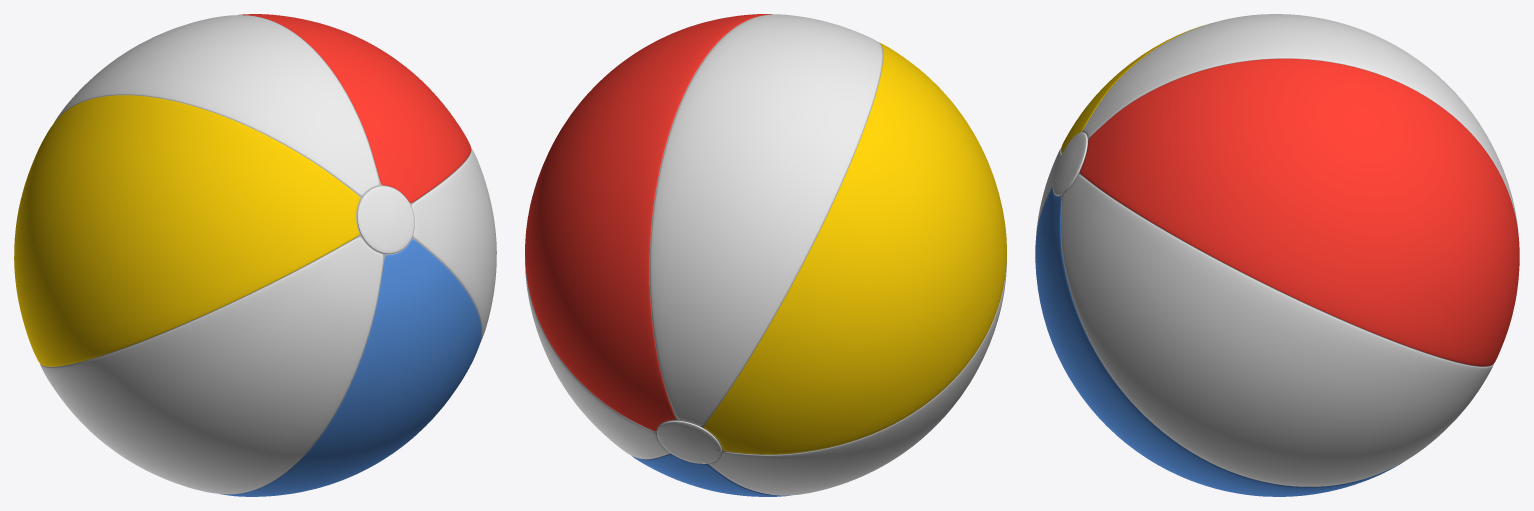
The model's file is BALL.fbx.
3 views of the same model, side by side, from view 1: azimuth 30°, elevation 25°; view 2: azimuth 150°, elevation 25°; view 3: azimuth 270°, elevation 25° (orthographic).
Visible parts, largest first — view 1: Ball; view 2: Ball; view 3: Ball.
Part boxes in pixels (x1,y1,x2,y2): Ball: (14, 14, 496, 496); Ball: (525, 14, 1006, 496); Ball: (1035, 14, 1519, 496).
Bounding box in the file's own units: 241 × 242 × 242.
